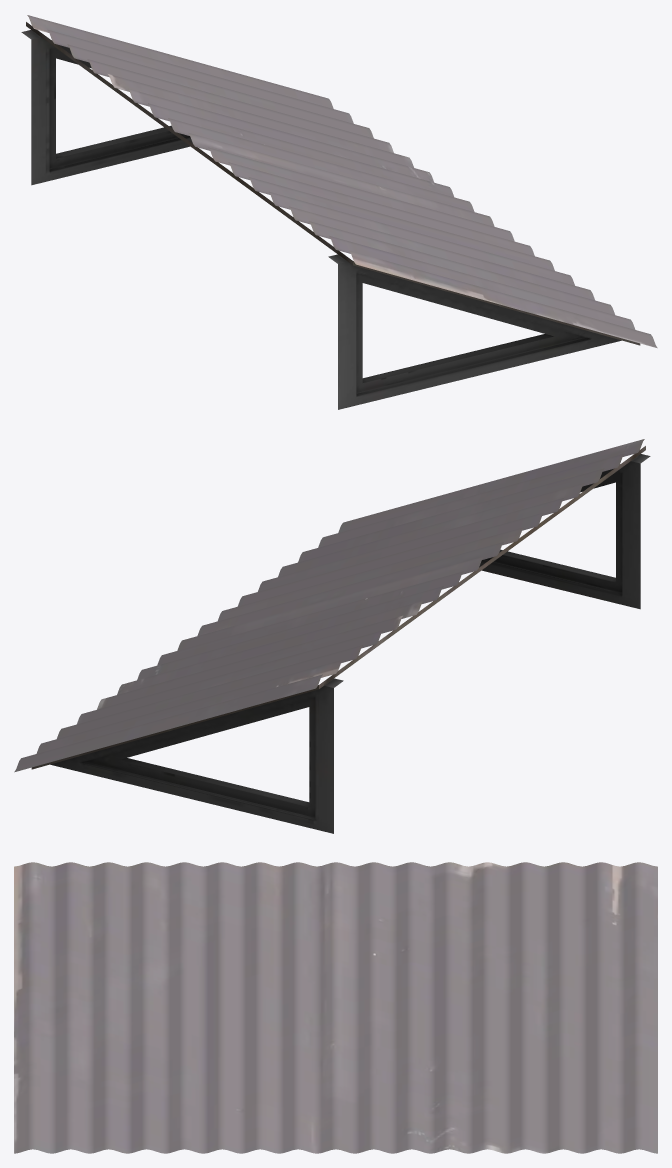
3 views of the same model, one above another, from view 1: azimuth 30°, elevation 25°; view 2: azimuth 150°, elevation 25°; view 3: azimuth 270°, elevation 25° (orthographic). The views are drawn at different scales.
Parts seen in each view (by area): view 1: body0_model0_lod0_mesh0; view 2: body0_model0_lod0_mesh0; view 3: body0_model0_lod0_mesh0.
Boxes of the visible parts, box(x1,y1,x2,y2) form: body0_model0_lod0_mesh0: box(21, 15, 657, 409); body0_model0_lod0_mesh0: box(14, 439, 650, 833); body0_model0_lod0_mesh0: box(14, 862, 657, 1153).
Bounding box in the file's own units: 71.25 × 35.98 × 136.
1 material, 1 textured.
